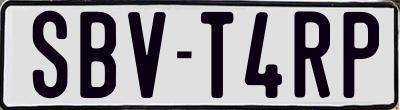4: (244, 12, 282, 102)
B: (77, 12, 118, 103)
P: (340, 12, 378, 104)
R: (291, 9, 329, 102)
S: (31, 11, 70, 102)
T: (200, 11, 238, 99)
V: (126, 9, 165, 101)
